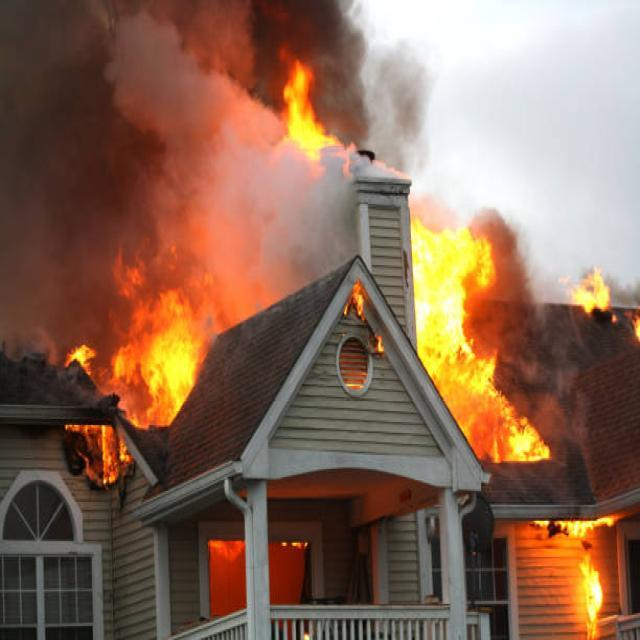Fire: (407, 225, 560, 508), (66, 270, 214, 444), (264, 56, 330, 166), (562, 513, 614, 615), (576, 260, 619, 320)
Smoke: (0, 1, 353, 284)
